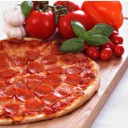pepperonipizza: (1, 40, 99, 122)
